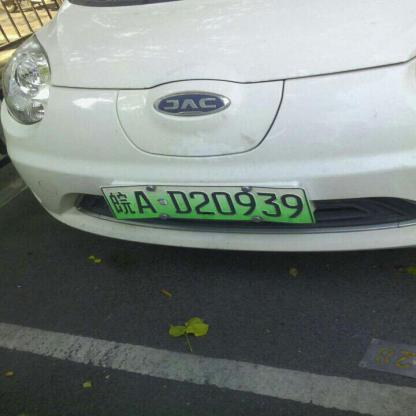lp: (99, 186, 315, 223)
